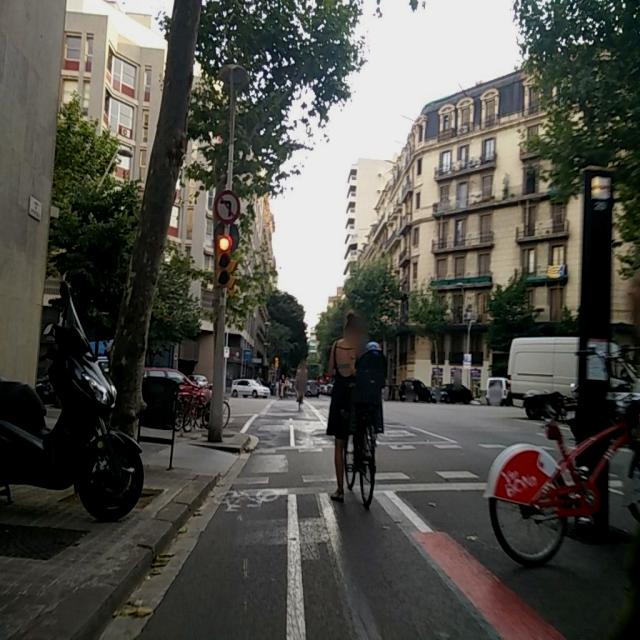bike: (0, 316, 145, 523), (489, 364, 640, 559), (324, 397, 385, 511), (177, 392, 212, 434)
car: (506, 334, 638, 422), (142, 367, 201, 399), (398, 378, 434, 404), (432, 383, 473, 405), (231, 378, 271, 399), (485, 376, 510, 406), (187, 373, 212, 391), (304, 380, 320, 398), (319, 384, 329, 395)
